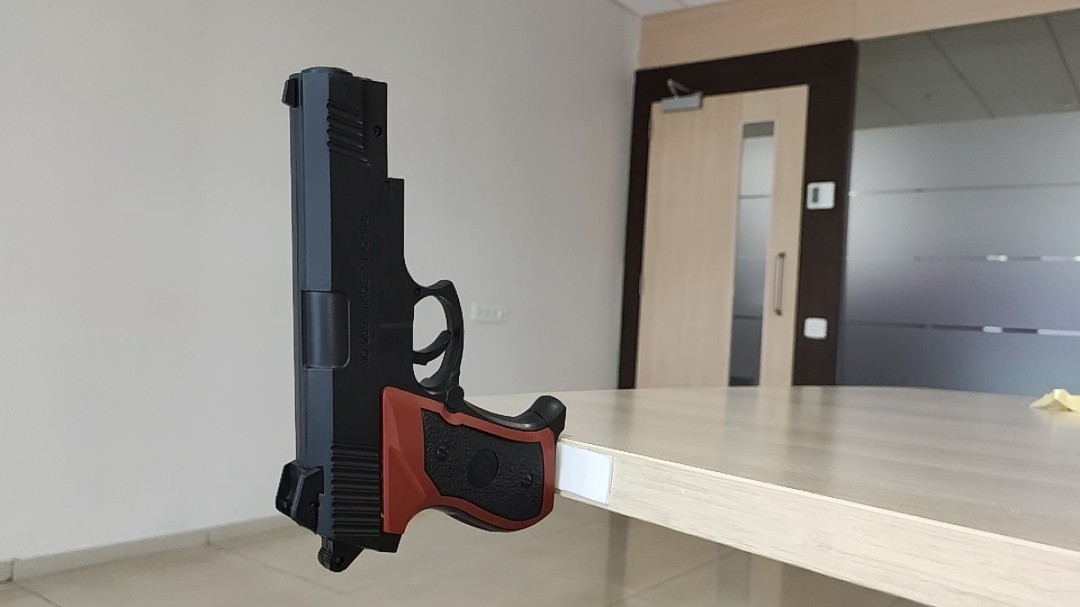gun: (275, 68, 567, 569)
